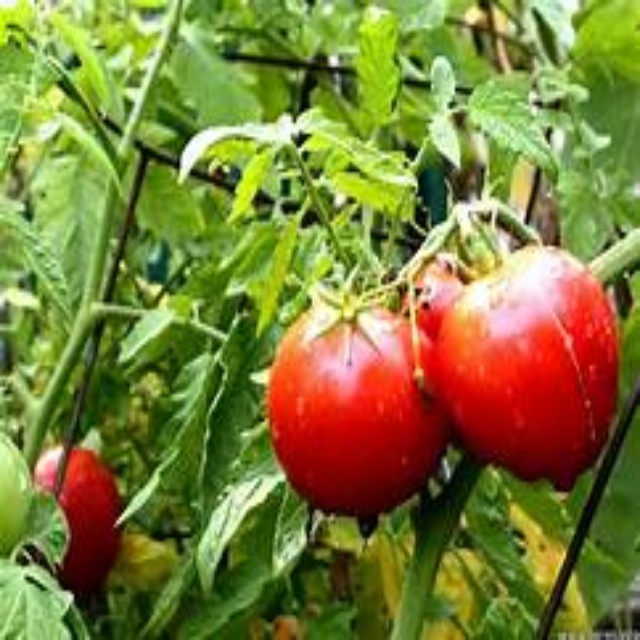tomato: (439, 241, 625, 497), (276, 290, 461, 525), (28, 442, 136, 586)
